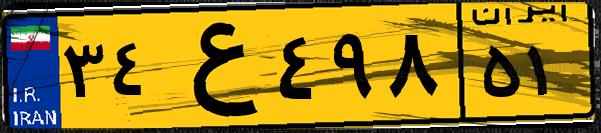1: (525, 38, 570, 115)
3: (57, 26, 110, 100)
4: (270, 28, 330, 110), (110, 28, 158, 98)
5: (475, 38, 525, 113)
8: (385, 28, 445, 110)
9: (330, 28, 385, 110)
ع: (158, 12, 270, 120)
